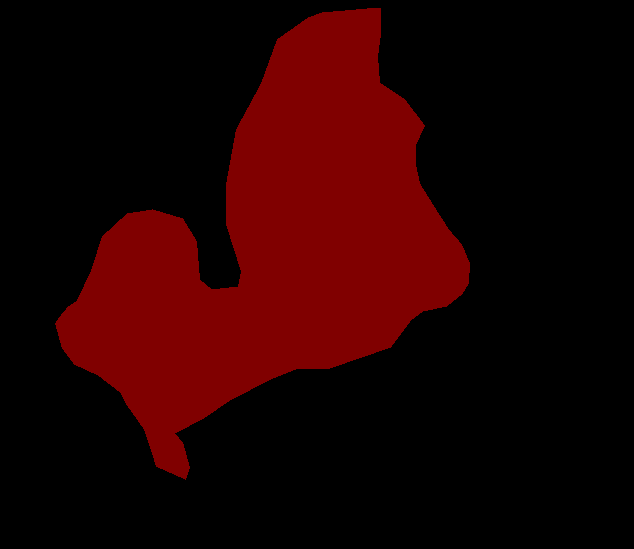fire: (55, 8, 469, 479)
